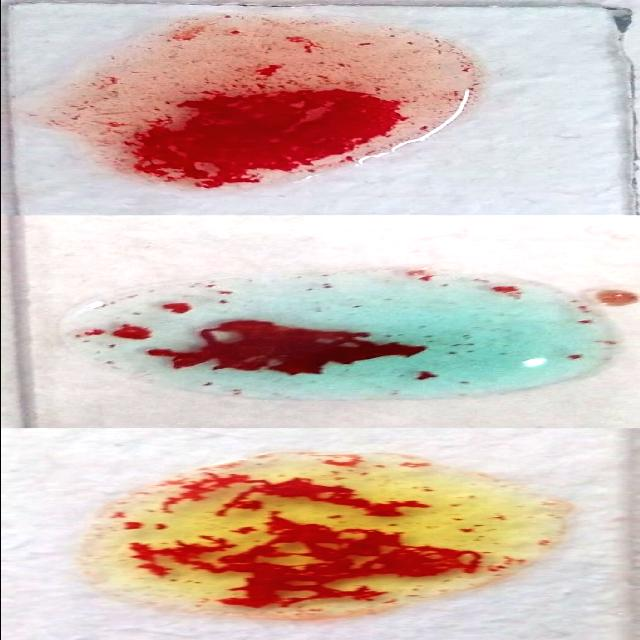A: (68, 267, 614, 406)
B: (80, 462, 570, 616)
D: (47, 20, 494, 182)
